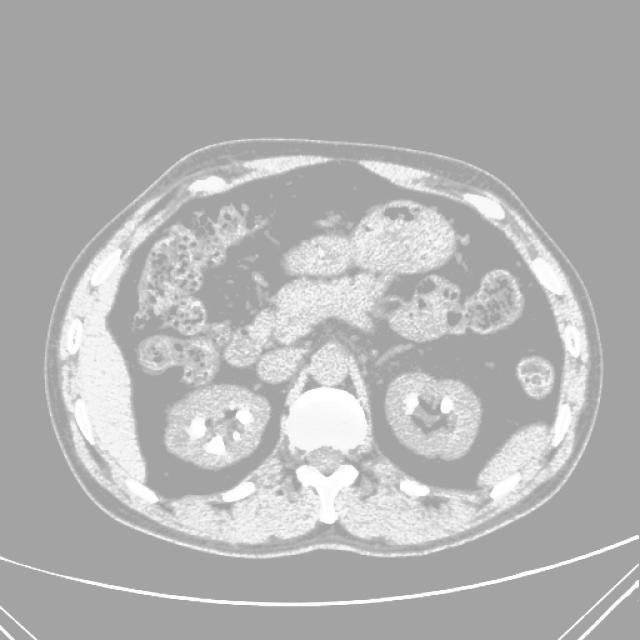STONE: (61, 247, 595, 532)
